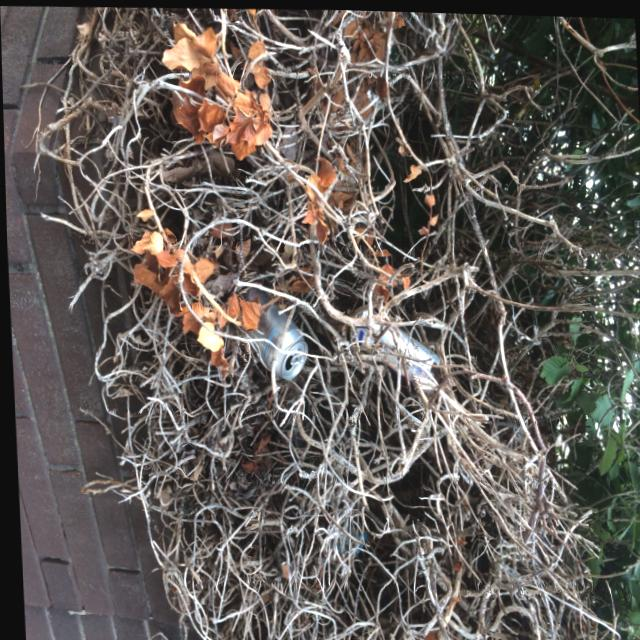Can-Metal: (332, 293, 449, 398), (210, 272, 309, 382)
